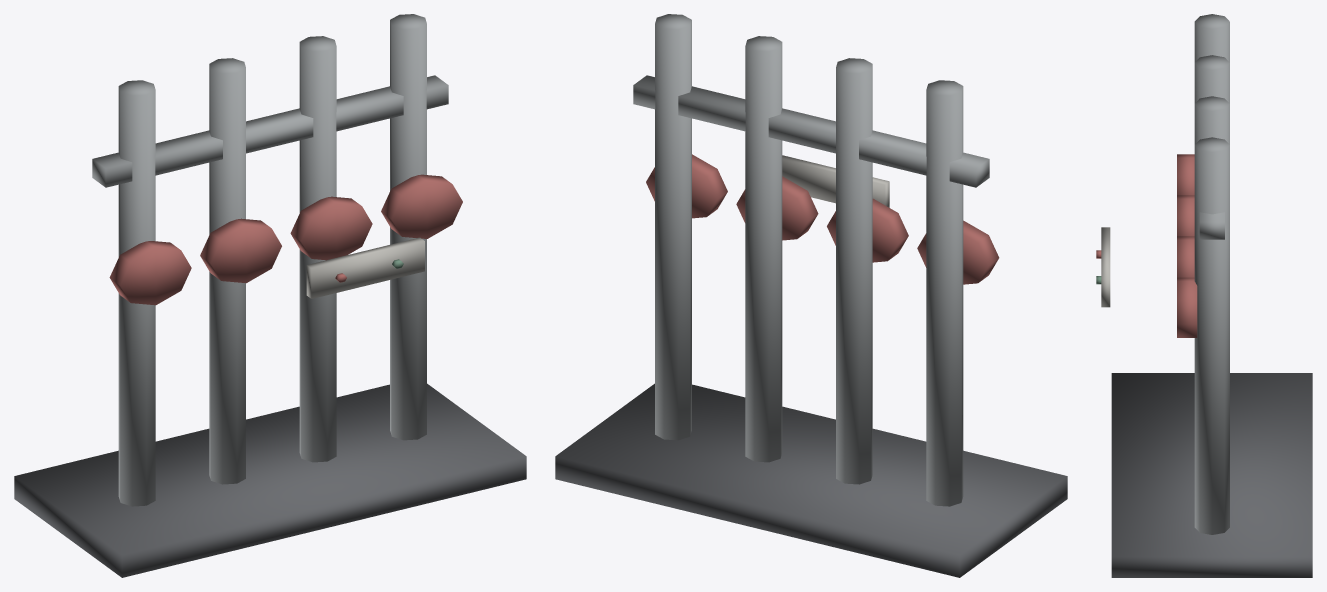
The model's file is pipe_valve_station__squat.glb.
3 views of the same model, side by side, from view 1: azimuth 30°, elevation 25°; view 2: azimuth 150°, elevation 25°; view 3: azimuth 270°, elevation 25° (orthographic). The views are drawn at different scales.
Visible parts, largest first — view 1: world; view 2: world; view 3: world.
Boxes of the visible parts, x1=… form: world: x1=14, y1=14, x2=526, y2=577; world: x1=555, y1=14, x2=1067, y2=577; world: x1=1096, y1=14, x2=1312, y2=577.
Size of the model in its own units: 0.935 by 0.9576 by 0.4655.
